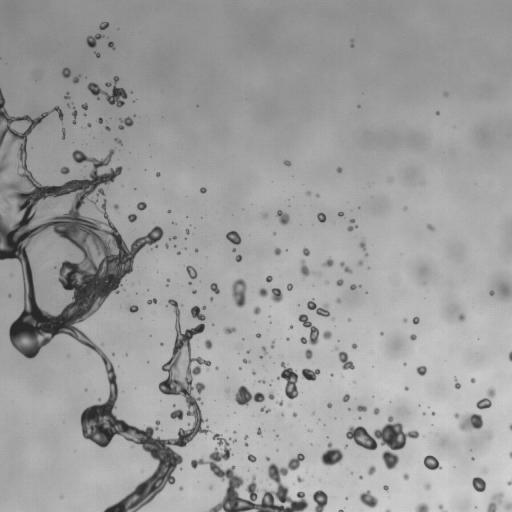droplet: (234, 385, 265, 406), (320, 442, 343, 466), (454, 412, 483, 431), (231, 278, 247, 307), (358, 490, 378, 508), (312, 490, 328, 511), (423, 454, 442, 470), (86, 33, 104, 47), (301, 368, 320, 380), (226, 230, 241, 244), (269, 287, 283, 302), (276, 210, 289, 225), (472, 477, 485, 492), (118, 117, 133, 129), (186, 265, 197, 279), (170, 409, 184, 420), (415, 502, 429, 511), (322, 256, 333, 267), (83, 92, 94, 103), (3, 102, 14, 113), (118, 105, 129, 116), (86, 110, 97, 121), (69, 161, 80, 172), (81, 161, 92, 172), (80, 168, 91, 179), (68, 169, 79, 180), (8, 171, 19, 182), (53, 175, 64, 186), (39, 176, 50, 187), (122, 235, 133, 246), (186, 236, 197, 247), (132, 253, 143, 264), (304, 256, 315, 267), (8, 257, 19, 268), (331, 265, 342, 276), (342, 273, 353, 284), (120, 274, 131, 285), (220, 283, 231, 294), (14, 286, 25, 297), (244, 289, 255, 300), (135, 296, 146, 307), (179, 305, 190, 316), (306, 310, 317, 321), (186, 317, 197, 328), (55, 331, 66, 342), (190, 333, 201, 344), (199, 348, 210, 359), (250, 358, 261, 369), (305, 359, 316, 370), (295, 376, 306, 387), (100, 382, 111, 393), (174, 394, 185, 405), (332, 398, 343, 409), (111, 406, 122, 417), (160, 414, 171, 425), (183, 415, 194, 426), (374, 418, 385, 429), (376, 442, 387, 453), (235, 452, 246, 463), (276, 457, 287, 468), (179, 458, 190, 469), (218, 458, 229, 469), (374, 458, 385, 469), (199, 463, 210, 474), (258, 468, 269, 479), (279, 474, 290, 485), (218, 477, 229, 488), (266, 480, 277, 491), (236, 486, 247, 497), (370, 487, 381, 498), (215, 488, 226, 499), (286, 489, 297, 500), (480, 489, 491, 500), (107, 494, 118, 505), (210, 282, 220, 294), (500, 287, 511, 297), (223, 326, 236, 334), (258, 287, 268, 297), (322, 330, 332, 340), (416, 365, 426, 375), (61, 67, 70, 77), (317, 212, 326, 222), (247, 452, 256, 462), (127, 305, 138, 313), (304, 348, 312, 359), (503, 491, 511, 502), (128, 213, 137, 222), (95, 15, 104, 24), (89, 26, 98, 35), (79, 78, 88, 87), (62, 107, 71, 116), (109, 119, 118, 128), (110, 127, 119, 136), (95, 151, 104, 160), (67, 159, 76, 168), (108, 160, 117, 169), (96, 166, 105, 175), (11, 197, 20, 206), (5, 221, 14, 230), (175, 237, 184, 246), (336, 269, 345, 278), (264, 282, 273, 291), (157, 296, 166, 305), (227, 296, 236, 305), (10, 311, 19, 320), (190, 317, 199, 326), (73, 320, 82, 329), (215, 322, 224, 331), (409, 324, 418, 333), (301, 327, 310, 336), (248, 351, 257, 360), (158, 371, 167, 380), (100, 372, 109, 381), (191, 374, 200, 383), (459, 377, 468, 386), (259, 385, 268, 394), (261, 397, 270, 406), (347, 398, 356, 407), (248, 432, 257, 441), (228, 443, 237, 452), (171, 444, 180, 453), (150, 458, 159, 467), (294, 466, 303, 475), (171, 468, 180, 477), (287, 469, 296, 478), (154, 492, 163, 501), (304, 494, 313, 503), (501, 494, 510, 503), (412, 497, 421, 506), (99, 22, 109, 30), (136, 202, 146, 210), (204, 339, 212, 349), (260, 405, 270, 413), (367, 465, 375, 475), (356, 405, 367, 412), (72, 74, 80, 83), (60, 166, 69, 174), (96, 188, 105, 196), (302, 247, 310, 256), (342, 393, 350, 402), (275, 397, 283, 406), (505, 486, 511, 497), (137, 505, 148, 511), (303, 505, 314, 511), (361, 505, 372, 511), (406, 505, 417, 511), (427, 505, 438, 511), (494, 505, 505, 511), (484, 431, 492, 439), (108, 41, 115, 50), (253, 305, 260, 314), (504, 502, 511, 511), (147, 298, 157, 304), (268, 389, 274, 399), (426, 224, 434, 231), (274, 247, 281, 255), (235, 254, 242, 262), (265, 275, 273, 282), (336, 278, 343, 286), (286, 283, 293, 291), (458, 313, 465, 321), (412, 316, 419, 324), (423, 483, 431, 490), (0, 204, 5, 215), (297, 475, 304, 482), (69, 70, 76, 77), (98, 83, 105, 90), (44, 104, 51, 111), (76, 107, 83, 114), (91, 120, 98, 127), (31, 126, 38, 133), (4, 132, 11, 139), (110, 141, 117, 148), (84, 150, 91, 157), (97, 182, 104, 189), (6, 187, 13, 194), (88, 191, 95, 198), (105, 205, 112, 212), (133, 208, 140, 215), (116, 227, 123, 234), (140, 229, 147, 236), (3, 257, 10, 264), (362, 257, 369, 264), (332, 259, 339, 266), (294, 263, 301, 270), (306, 263, 313, 270), (323, 265, 330, 272), (295, 271, 302, 278), (232, 273, 239, 280), (306, 273, 313, 280), (269, 280, 276, 287), (342, 281, 349, 288), (280, 287, 287, 294), (108, 290, 115, 297), (266, 290, 273, 297), (271, 300, 278, 307), (167, 304, 174, 311), (259, 308, 266, 315), (3, 325, 10, 332), (329, 334, 336, 341), (92, 338, 99, 345), (304, 341, 311, 348), (38, 346, 45, 353), (165, 351, 172, 358), (105, 352, 112, 359), (18, 353, 25, 360), (23, 356, 30, 363), (199, 363, 206, 370), (295, 369, 302, 376), (255, 372, 262, 379), (279, 377, 286, 384), (232, 385, 239, 392), (249, 388, 256, 395), (190, 389, 197, 396), (480, 391, 487, 398), (167, 393, 174, 400), (282, 395, 289, 402), (100, 396, 107, 403), (91, 398, 98, 405), (248, 398, 255, 405), (113, 399, 120, 406), (255, 400, 262, 407), (366, 406, 373, 413), (76, 407, 83, 414), (110, 407, 117, 414), (473, 407, 480, 414), (284, 409, 291, 416), (74, 413, 81, 420), (125, 418, 132, 425), (452, 418, 459, 425), (138, 423, 145, 430), (376, 423, 383, 430), (75, 424, 82, 431), (401, 426, 408, 433), (471, 427, 478, 434), (367, 428, 374, 435), (151, 431, 158, 438), (195, 431, 202, 438), (205, 431, 212, 438), (221, 431, 228, 438), (171, 432, 178, 439), (235, 432, 242, 439), (112, 433, 119, 440), (405, 436, 412, 443), (237, 437, 244, 444), (375, 437, 382, 444), (383, 444, 390, 451), (321, 445, 328, 452), (340, 448, 347, 455), (392, 448, 399, 455), (143, 450, 150, 457), (203, 454, 210, 461), (315, 455, 322, 462), (340, 456, 347, 463), (394, 461, 401, 468), (331, 462, 338, 469), (388, 467, 395, 474), (232, 468, 239, 475), (360, 468, 367, 475), (163, 482, 170, 489), (128, 484, 135, 491), (64, 91, 70, 99), (81, 102, 87, 110), (283, 160, 291, 166), (242, 358, 251, 363), (506, 279, 511, 288), (506, 293, 511, 302), (321, 506, 330, 511), (478, 506, 487, 511), (94, 51, 100, 58), (336, 166, 342, 173), (373, 407, 379, 414), (481, 467, 488, 473), (403, 473, 409, 480), (382, 485, 388, 492), (200, 187, 206, 193), (113, 204, 119, 210), (350, 284, 356, 290), (410, 334, 416, 340), (326, 402, 332, 408), (0, 145, 4, 154), (277, 412, 284, 417), (105, 82, 111, 87), (97, 117, 102, 123), (104, 126, 110, 131), (305, 190, 311, 195), (261, 213, 267, 218), (349, 218, 355, 223), (358, 260, 363, 266), (352, 343, 357, 349), (470, 377, 475, 383), (249, 507, 256, 511), (338, 212, 343, 217), (489, 290, 494, 295), (336, 298, 341, 303), (288, 324, 293, 329), (256, 333, 261, 338), (292, 412, 297, 417), (265, 456, 270, 461), (208, 485, 213, 490), (99, 29, 104, 34), (95, 38, 100, 43), (83, 42, 88, 47), (89, 46, 94, 51), (57, 67, 62, 72), (57, 72, 62, 77), (68, 74, 73, 79), (92, 78, 97, 83), (115, 83, 120, 88), (124, 88, 129, 93), (86, 90, 91, 95), (107, 90, 112, 95), (1, 91, 6, 96), (97, 92, 102, 97), (91, 94, 96, 99), (65, 98, 70, 103), (49, 103, 54, 108), (111, 103, 116, 108), (41, 107, 46, 112), (53, 110, 58, 115), (18, 112, 23, 117), (30, 114, 35, 119), (131, 116, 136, 121), (41, 117, 46, 122), (101, 120, 106, 125), (115, 120, 120, 125), (35, 123, 40, 128), (26, 133, 31, 138), (25, 145, 30, 150), (69, 147, 74, 152), (110, 154, 115, 159), (81, 160, 86, 165), (332, 164, 337, 169), (56, 165, 61, 170), (341, 167, 346, 172), (120, 168, 125, 173), (78, 175, 83, 180), (86, 175, 91, 180), (113, 176, 118, 181), (310, 191, 315, 196), (140, 197, 145, 202), (98, 199, 103, 204), (145, 201, 150, 206), (143, 207, 148, 212), (281, 208, 286, 213), (1, 212, 6, 217), (275, 215, 280, 220), (288, 216, 293, 221), (313, 217, 318, 222), (133, 219, 138, 224), (350, 221, 355, 226), (430, 221, 435, 226), (283, 223, 288, 228), (160, 225, 165, 230), (188, 226, 193, 231), (225, 227, 230, 232), (425, 228, 430, 233), (237, 231, 242, 236), (355, 238, 360, 243), (155, 239, 160, 244), (239, 240, 244, 245), (167, 241, 172, 246), (150, 242, 155, 247), (229, 242, 234, 247), (364, 242, 369, 247), (144, 243, 149, 248), (174, 246, 179, 251), (139, 247, 144, 252), (269, 248, 274, 253), (180, 249, 185, 254), (280, 249, 285, 254), (234, 250, 239, 255), (308, 251, 313, 256), (275, 254, 280, 259), (303, 255, 308, 260), (322, 256, 327, 261), (240, 257, 245, 262), (344, 261, 349, 266), (362, 262, 367, 267), (348, 264, 353, 269), (339, 266, 344, 271), (124, 272, 129, 277), (334, 275, 339, 280), (186, 276, 191, 281), (119, 278, 124, 283), (191, 278, 196, 283), (331, 279, 336, 284), (189, 284, 194, 289), (205, 284, 210, 289), (216, 284, 221, 289), (116, 285, 121, 290), (336, 285, 341, 290), (254, 288, 259, 293), (209, 290, 214, 295), (339, 295, 344, 300), (176, 299, 181, 304), (189, 302, 194, 307), (197, 303, 202, 308), (326, 306, 331, 311), (198, 309, 203, 314), (329, 311, 334, 316), (171, 313, 176, 318), (255, 313, 260, 318), (294, 313, 299, 318), (453, 314, 458, 319), (464, 314, 469, 319), (325, 315, 330, 320), (407, 318, 412, 323), (418, 318, 423, 323), (297, 320, 302, 325), (458, 320, 463, 325), (227, 323, 232, 328), (235, 326, 240, 331), (305, 326, 310, 331), (202, 327, 207, 332), (180, 328, 185, 333), (230, 331, 235, 336), (317, 333, 322, 338), (304, 334, 309, 339), (210, 339, 215, 344), (409, 339, 414, 344), (169, 343, 174, 348), (84, 345, 89, 350), (265, 345, 270, 350), (338, 346, 343, 351), (89, 348, 94, 353), (258, 349, 263, 354), (300, 351, 305, 356), (311, 351, 316, 356), (190, 353, 195, 358), (504, 353, 509, 358), (244, 354, 249, 359), (262, 354, 267, 359), (163, 357, 168, 362), (99, 361, 104, 366), (338, 361, 343, 366), (417, 361, 422, 366), (240, 362, 245, 367), (209, 363, 214, 368), (284, 363, 289, 368), (278, 366, 283, 371), (310, 366, 315, 371), (113, 368, 118, 373), (424, 370, 429, 375), (414, 372, 419, 377), (314, 373, 319, 378), (114, 377, 119, 382), (474, 377, 479, 382), (457, 378, 462, 383), (307, 379, 312, 384), (104, 380, 109, 385), (450, 380, 455, 385), (190, 381, 195, 386), (116, 384, 121, 389), (200, 388, 205, 393), (494, 389, 499, 394), (116, 390, 121, 395), (339, 392, 344, 397), (263, 393, 268, 398), (476, 395, 481, 400), (291, 397, 296, 402), (489, 397, 494, 402), (195, 399, 200, 404), (233, 401, 238, 406), (360, 401, 365, 406), (241, 403, 246, 408), (376, 403, 381, 408), (198, 404, 203, 409), (170, 406, 175, 411), (426, 409, 431, 414), (358, 410, 363, 415), (181, 412, 186, 417), (296, 412, 301, 417), (371, 413, 376, 418), (201, 414, 206, 419), (390, 419, 395, 424), (318, 420, 323, 425), (150, 423, 155, 428), (157, 423, 162, 428), (200, 423, 205, 428), (352, 423, 357, 428), (343, 427, 348, 432), (213, 428, 218, 433), (417, 429, 422, 434), (260, 430, 265, 435), (230, 433, 235, 438), (416, 435, 421, 440), (245, 437, 250, 442), (86, 438, 91, 443), (324, 438, 329, 443), (349, 438, 354, 443), (127, 440, 132, 445), (137, 443, 142, 448), (358, 445, 363, 450), (209, 447, 214, 452), (367, 448, 372, 453), (432, 452, 437, 457), (504, 453, 509, 458), (194, 455, 199, 460), (419, 456, 424, 461), (266, 460, 271, 465), (298, 460, 303, 465), (438, 461, 443, 466), (175, 463, 180, 468), (196, 463, 201, 468), (204, 463, 209, 468), (423, 466, 428, 471), (434, 467, 439, 472), (287, 468, 292, 473), (427, 468, 432, 473), (208, 470, 213, 475), (170, 471, 175, 476), (372, 471, 377, 476), (474, 472, 479, 477), (353, 473, 358, 478), (478, 473, 483, 478), (408, 474, 413, 479), (398, 475, 403, 480), (481, 475, 486, 480), (403, 479, 408, 484), (467, 479, 472, 484), (484, 483, 489, 488), (470, 487, 475, 492), (361, 488, 366, 493), (427, 488, 432, 493), (474, 490, 479, 495), (294, 496, 299, 501), (326, 497, 331, 502), (442, 504, 447, 509), (185, 228, 189, 234), (192, 289, 196, 295), (251, 369, 255, 375), (507, 479, 511, 485), (0, 191, 3, 198), (443, 92, 448, 96), (87, 122, 91, 127), (156, 172, 160, 177), (403, 206, 407, 211), (232, 247, 236, 252), (403, 317, 407, 322), (334, 345, 338, 350), (246, 349, 251, 353), (404, 386, 409, 390), (244, 434, 248, 439), (244, 442, 249, 446), (344, 444, 348, 449), (0, 83, 4, 88), (435, 111, 439, 115), (315, 193, 319, 197), (176, 251, 180, 255), (68, 253, 72, 257), (166, 278, 170, 282), (188, 281, 192, 285), (325, 280, 329, 284), (347, 318, 351, 322), (238, 366, 242, 370), (287, 403, 291, 407), (431, 411, 435, 415), (358, 475, 362, 479), (179, 486, 183, 490), (67, 103, 70, 108), (165, 243, 168, 248), (210, 296, 213, 301), (307, 429, 312, 432), (219, 508, 224, 511), (435, 508, 440, 511), (472, 508, 477, 511), (357, 104, 360, 108), (167, 210, 171, 213), (195, 248, 198, 252), (8, 293, 11, 297), (331, 317, 334, 321), (380, 331, 383, 335), (286, 337, 289, 341), (160, 342, 163, 346), (403, 362, 406, 366), (215, 366, 218, 370), (225, 389, 229, 392), (98, 397, 101, 401), (312, 411, 315, 415), (187, 422, 190, 426), (345, 496, 348, 500), (338, 509, 343, 511), (83, 113, 86, 116), (133, 187, 136, 190), (273, 232, 276, 235), (367, 266, 370, 269), (165, 284, 168, 287), (358, 284, 361, 287), (122, 288, 125, 291), (211, 323, 214, 326), (241, 337, 244, 340), (337, 339, 340, 342), (330, 373, 333, 376), (341, 375, 344, 378), (84, 388, 87, 391), (172, 404, 175, 407), (347, 407, 350, 410), (422, 412, 425, 415), (358, 416, 361, 419), (233, 430, 236, 433), (275, 434, 278, 437), (471, 457, 474, 460), (179, 467, 182, 470), (350, 471, 353, 474), (104, 18, 107, 21), (104, 27, 107, 30), (108, 38, 111, 41), (348, 41, 351, 44), (352, 41, 355, 44), (112, 43, 115, 46), (108, 46, 111, 49), (350, 47, 353, 50), (92, 53, 95, 56), (99, 54, 102, 57), (63, 64, 66, 67), (113, 72, 116, 75), (74, 82, 77, 85), (63, 92, 66, 95), (60, 95, 63, 98), (134, 99, 137, 102), (105, 100, 108, 103), (81, 101, 84, 104), (359, 102, 362, 105), (69, 104, 72, 107), (121, 104, 124, 107), (58, 105, 61, 108), (87, 105, 90, 108), (357, 107, 360, 110), (71, 108, 74, 111), (61, 110, 64, 113), (432, 111, 435, 114), (439, 111, 442, 114), (135, 113, 138, 116), (436, 114, 439, 117), (62, 115, 65, 118), (95, 117, 98, 120), (71, 123, 74, 126), (106, 123, 109, 126), (85, 125, 88, 128), (104, 129, 107, 132), (119, 129, 122, 132), (59, 132, 62, 135), (64, 134, 67, 137), (61, 139, 64, 142), (121, 140, 124, 143), (117, 143, 120, 146), (286, 157, 289, 160), (280, 159, 283, 162), (18, 161, 21, 164), (25, 161, 28, 164), (290, 161, 293, 164), (284, 164, 287, 167), (339, 164, 342, 167), (26, 165, 29, 168), (156, 168, 159, 171), (334, 170, 337, 173), (159, 171, 162, 174), (152, 172, 155, 175), (337, 172, 340, 175), (32, 174, 35, 177), (158, 175, 161, 178), (132, 184, 135, 187), (202, 184, 205, 187), (196, 187, 199, 190), (134, 189, 137, 192), (98, 192, 101, 195), (202, 192, 205, 195), (318, 192, 321, 195), (314, 196, 317, 199), (117, 203, 120, 206), (167, 206, 170, 209), (277, 206, 280, 209), (338, 208, 341, 211), (170, 209, 173, 212), (318, 209, 321, 212), (322, 210, 325, 213), (274, 211, 277, 214), (334, 211, 337, 214), (168, 212, 171, 215), (185, 212, 188, 215), (343, 212, 346, 215), (107, 215, 110, 218), (325, 215, 328, 218), (336, 215, 339, 218), (340, 215, 343, 218), (125, 217, 128, 220), (186, 217, 189, 220), (172, 219, 175, 222), (324, 219, 327, 222), (320, 221, 323, 224), (170, 223, 173, 226), (191, 223, 194, 226), (352, 227, 355, 230), (182, 229, 185, 232), (172, 232, 175, 235), (275, 232, 278, 235), (184, 233, 187, 236), (170, 238, 173, 241), (184, 239, 187, 242), (184, 244, 187, 247), (197, 247, 200, 250), (307, 247, 310, 250), (359, 247, 362, 250), (191, 248, 194, 251), (287, 248, 290, 251), (364, 249, 367, 252), (177, 254, 180, 257), (366, 255, 369, 258), (233, 259, 236, 262), (188, 262, 191, 265), (184, 263, 187, 266), (194, 267, 197, 270), (196, 271, 199, 274), (196, 274, 199, 277), (264, 274, 267, 277), (167, 275, 170, 278), (262, 277, 265, 280), (169, 278, 172, 281), (164, 280, 167, 283), (286, 280, 289, 283), (167, 281, 170, 284), (208, 281, 211, 284), (355, 283, 358, 286), (165, 286, 168, 289), (355, 286, 358, 289), (291, 287, 294, 290), (143, 288, 146, 291), (487, 288, 490, 291), (351, 289, 354, 292), (367, 290, 370, 293), (132, 291, 135, 294), (137, 291, 140, 294), (194, 292, 197, 295), (486, 292, 489, 295), (4, 293, 7, 296), (364, 293, 367, 296), (492, 293, 495, 296), (10, 294, 13, 297), (489, 295, 492, 298), (149, 296, 152, 299), (155, 296, 158, 299), (169, 296, 172, 299), (308, 297, 311, 300), (333, 297, 336, 300), (156, 299, 159, 302), (296, 300, 299, 303), (151, 301, 154, 304), (133, 302, 136, 305), (336, 302, 339, 305), (137, 305, 140, 308), (177, 305, 180, 308), (126, 308, 129, 311), (133, 311, 136, 314), (318, 314, 321, 317), (349, 315, 352, 318), (267, 317, 270, 320), (344, 318, 347, 321), (271, 320, 274, 323), (400, 320, 403, 323), (348, 321, 351, 324), (267, 323, 270, 326), (414, 323, 417, 326), (286, 324, 289, 327), (289, 328, 292, 331), (379, 328, 382, 331), (254, 330, 257, 333), (258, 330, 261, 333), (83, 331, 86, 334), (383, 331, 386, 334), (151, 333, 154, 336), (377, 333, 380, 336), (241, 334, 244, 337), (260, 334, 263, 337), (287, 334, 290, 337), (298, 335, 301, 338), (148, 336, 151, 339), (254, 336, 257, 339), (415, 336, 418, 339), (270, 337, 273, 340), (289, 337, 292, 340), (283, 338, 286, 341), (160, 339, 163, 342), (239, 339, 242, 342), (286, 340, 289, 343), (156, 341, 159, 344), (355, 342, 358, 345), (158, 344, 161, 347), (355, 346, 358, 349), (245, 347, 248, 350), (249, 350, 252, 353), (122, 352, 125, 355), (127, 352, 130, 355), (204, 357, 207, 360), (257, 357, 260, 360), (403, 359, 406, 362), (143, 360, 146, 363), (148, 360, 151, 363), (352, 362, 355, 365), (400, 363, 403, 366), (403, 365, 406, 368), (217, 367, 220, 370), (235, 367, 238, 370), (238, 369, 241, 372), (249, 369, 252, 372), (319, 369, 322, 372), (249, 373, 252, 376), (332, 373, 335, 376), (328, 375, 331, 378), (467, 378, 470, 381), (268, 380, 271, 383), (471, 382, 474, 385), (405, 383, 408, 386), (155, 384, 158, 387), (401, 386, 404, 389), (459, 386, 462, 389), (81, 388, 84, 391), (403, 389, 406, 392), (84, 391, 87, 394), (297, 392, 300, 395), (325, 400, 328, 403), (330, 400, 333, 403), (417, 400, 420, 403), (275, 403, 278, 406), (414, 403, 417, 406), (331, 404, 334, 407), (327, 407, 330, 410), (431, 408, 434, 411), (345, 409, 348, 412), (267, 411, 270, 414), (289, 412, 292, 415), (419, 412, 422, 415), (434, 412, 437, 415), (278, 414, 281, 417), (292, 416, 295, 419), (156, 417, 159, 420), (314, 418, 317, 421), (159, 420, 162, 423), (208, 426, 211, 429), (308, 426, 311, 429), (506, 426, 509, 429), (233, 427, 236, 430), (260, 427, 263, 430), (254, 428, 257, 431), (274, 431, 277, 434), (307, 431, 310, 434), (325, 432, 328, 435), (210, 433, 213, 436), (247, 433, 250, 436), (241, 434, 244, 437), (256, 434, 259, 437), (278, 434, 281, 437), (343, 434, 346, 437), (272, 435, 275, 438), (275, 436, 278, 439), (226, 439, 229, 442), (243, 445, 246, 448), (296, 450, 299, 453), (302, 452, 305, 455), (253, 453, 256, 456), (267, 454, 270, 457), (472, 454, 475, 457), (244, 455, 247, 458), (468, 455, 471, 458), (255, 458, 258, 461), (469, 459, 472, 462), (248, 460, 251, 463), (347, 470, 350, 473), (357, 472, 360, 475), (358, 478, 361, 481), (506, 478, 509, 481), (174, 479, 177, 482), (385, 482, 388, 485), (504, 482, 507, 485), (181, 484, 184, 487), (387, 488, 390, 491), (180, 489, 183, 492), (383, 489, 386, 492), (323, 490, 326, 493), (347, 496, 350, 499), (342, 498, 345, 501), (471, 504, 474, 507), (339, 506, 342, 509), (174, 244, 176, 247), (112, 352, 114, 355), (125, 353, 127, 356), (147, 360, 149, 363), (353, 381, 356, 383), (323, 423, 325, 426), (276, 448, 278, 451), (474, 506, 477, 508), (509, 483, 511, 486), (130, 91, 132, 93), (132, 100, 134, 102), (196, 105, 198, 107), (133, 114, 135, 116), (358, 206, 360, 208), (189, 224, 191, 226), (184, 247, 186, 249), (150, 248, 152, 250), (285, 249, 287, 251), (365, 291, 367, 293), (297, 304, 299, 306), (268, 315, 270, 317), (269, 321, 271, 323), (149, 334, 151, 336), (101, 343, 103, 345), (226, 376, 228, 378), (271, 379, 273, 381), (269, 384, 271, 386), (372, 395, 374, 397), (418, 404, 420, 406), (427, 406, 429, 408), (233, 411, 235, 413), (334, 417, 336, 419), (431, 424, 433, 426), (310, 443, 312, 445), (469, 449, 471, 451), (247, 469, 249, 471), (144, 169, 146, 170), (185, 237, 186, 239), (140, 318, 142, 319), (477, 338, 479, 339), (389, 401, 391, 402), (161, 429, 162, 431), (273, 429, 274, 431), (201, 217, 202, 218), (147, 290, 148, 291)
ligament: (276, 361, 299, 399), (307, 298, 330, 317), (476, 387, 495, 409), (486, 492, 503, 511), (338, 351, 354, 370), (358, 238, 368, 257), (339, 261, 352, 273), (454, 376, 461, 389), (72, 106, 77, 124), (347, 224, 358, 231), (253, 379, 266, 384), (114, 138, 122, 146), (438, 504, 447, 511), (257, 427, 263, 436), (61, 127, 65, 139), (270, 339, 275, 348), (508, 350, 511, 362), (350, 39, 354, 47), (169, 236, 176, 240), (171, 221, 177, 224), (317, 418, 320, 423), (509, 424, 511, 431), (509, 451, 511, 458), (384, 509, 391, 511), (326, 435, 328, 439), (140, 470, 143, 472), (289, 205, 290, 207)
